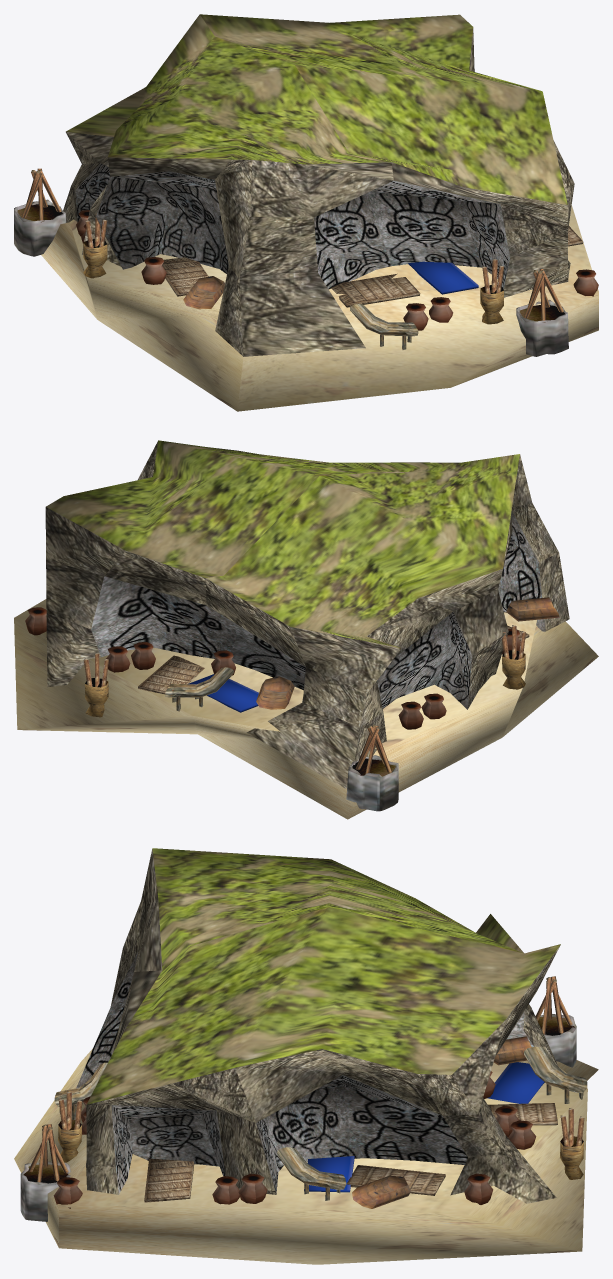
File: covas.dae
3 views of the same model, one above another, from view 1: azimuth 30°, elevation 25°; view 2: azimuth 150°, elevation 25°; view 3: azimuth 270°, elevation 25° (orthographic). The views are drawn at different scales.
Visible parts, largest first — view 1: covas; view 2: covas; view 3: covas.
Boxes of the visible parts, bbox=[...] form: covas: bbox=[14, 14, 598, 411]; covas: bbox=[14, 440, 598, 819]; covas: bbox=[14, 848, 598, 1264].
Bounding box in the file's own units: 27.36 × 27.56 × 13.2.
